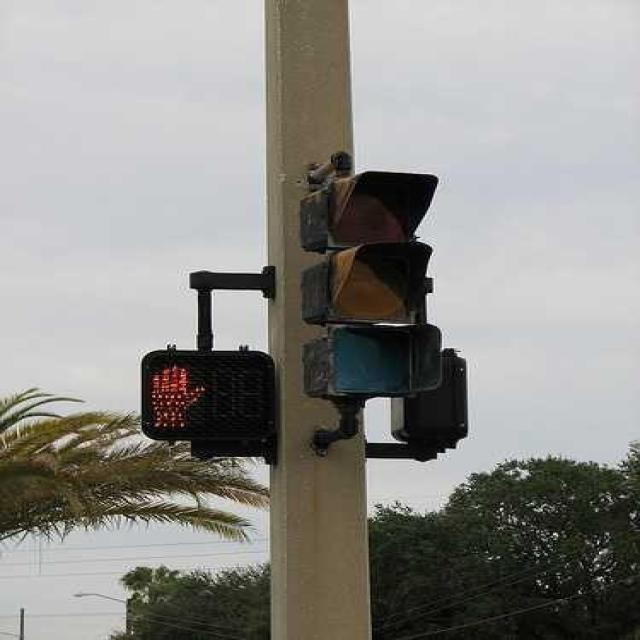Traffic Light -Off-: (290, 155, 450, 426)
